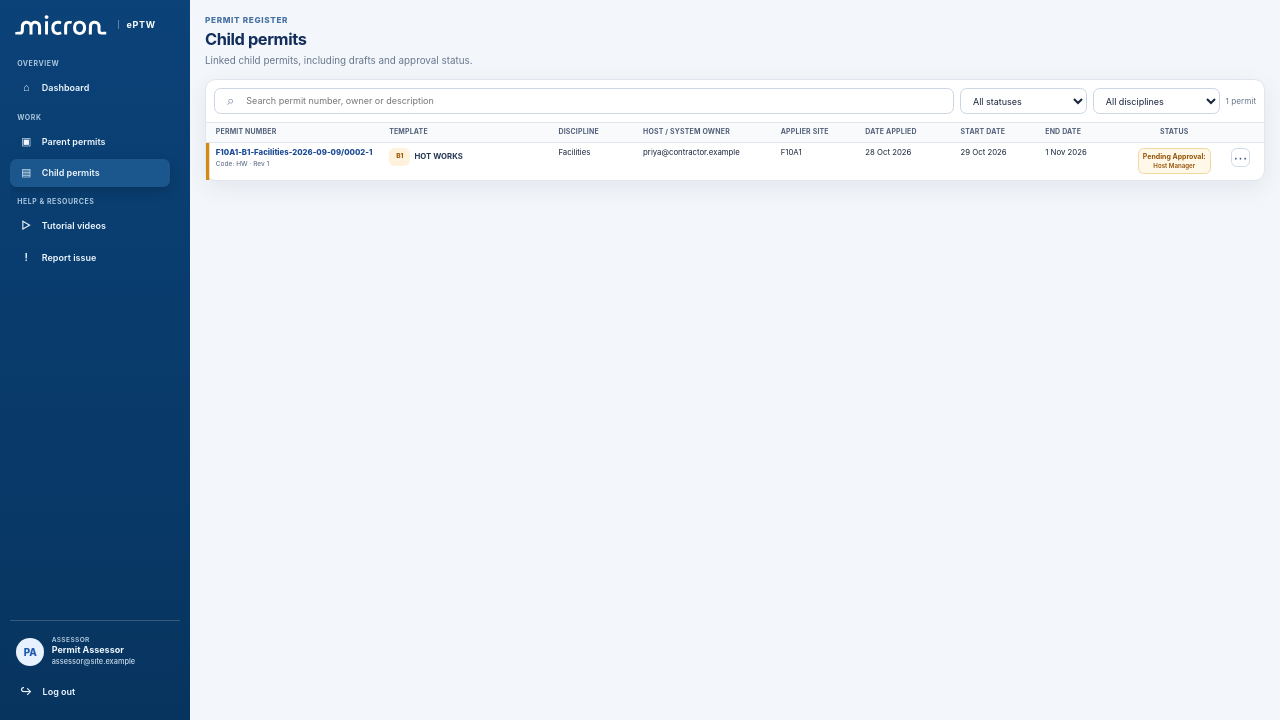
Test: application shell › gives Assessors read-only parent and child permit navigation
Expected: the link "▣ Parent permits" is shown, [21, 135, 106, 148]
Expected: the link "▤ Child permits" is shown, [10, 159, 170, 187]
What coordinates should you click on to do the following:
click the heading named "actions for f10a1-b1"
I would click on:
 (1241, 158)
Its box is [1231, 148, 1250, 167].
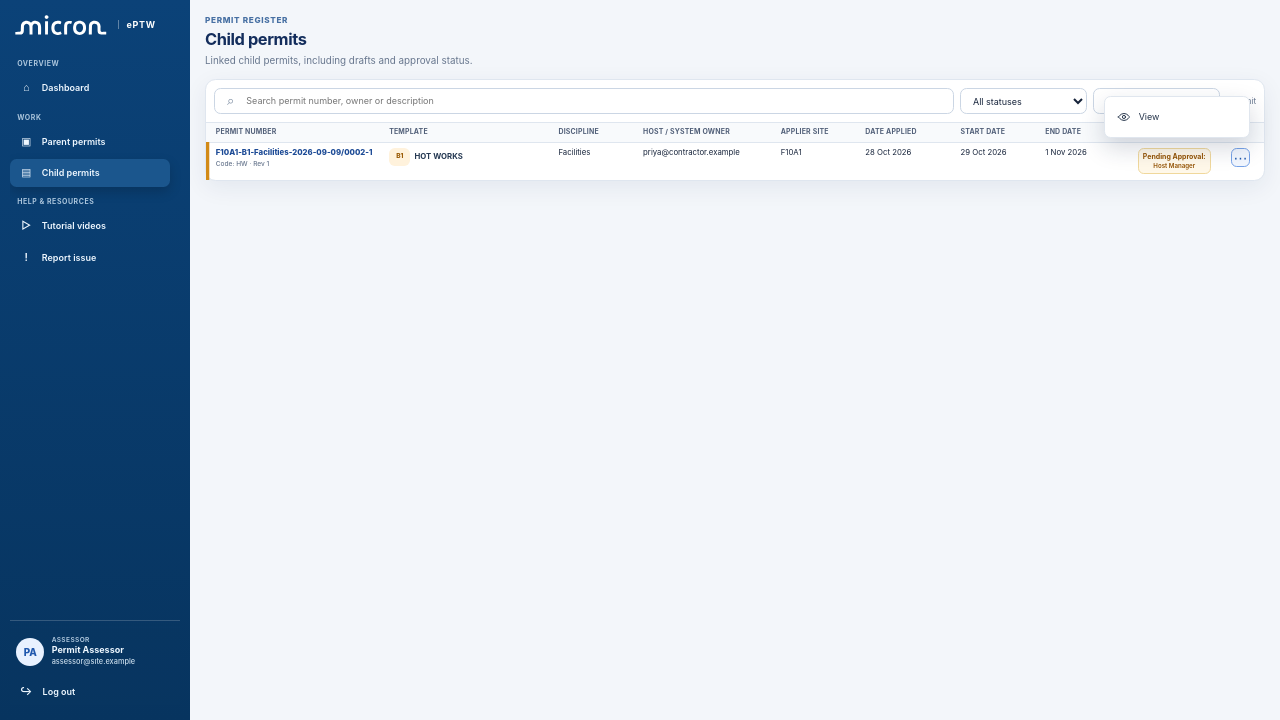
Expected: the link "View" is shown, [1116, 110, 1160, 124]
